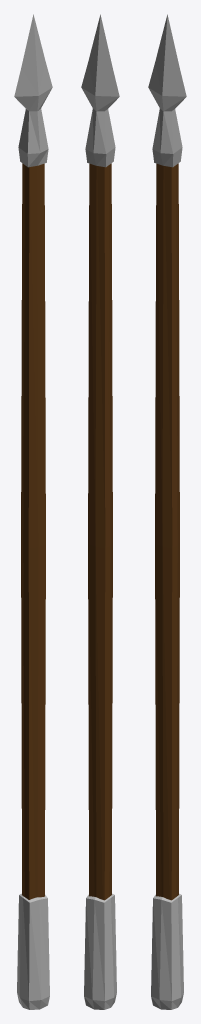
The model's file is Pike.obj.
3 views of the same model, side by side, from view 1: azimuth 30°, elevation 25°; view 2: azimuth 150°, elevation 25°; view 3: azimuth 330°, elevation 25° (orthographic).
Visible parts, largest first — view 1: Pike_Pike_Cube.001; view 2: Pike_Pike_Cube.001; view 3: Pike_Pike_Cube.001.
Part boxes in pixels (<box>): Pike_Pike_Cube.001: <box>14,14,52,1009</box>; Pike_Pike_Cube.001: <box>81,14,119,1009</box>; Pike_Pike_Cube.001: <box>148,14,186,1009</box>.
Size of the model in its own units: 0.4167 by 10.27 by 0.2958.
